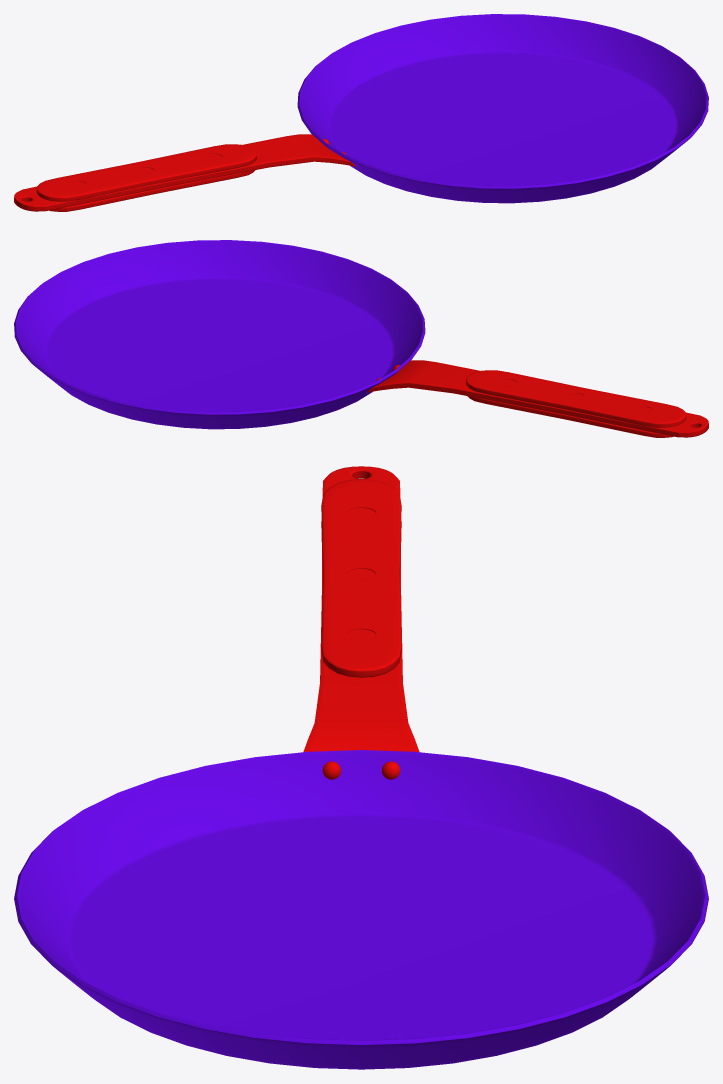
The model's file is Pan.fbx.
3 renders of one model, top to bottom at view 1: azimuth 30°, elevation 25°; view 2: azimuth 150°, elevation 25°; view 3: azimuth 270°, elevation 25°, orthographic. The views are drawn at different scales.
Visible parts, largest first — view 1: Pan5; view 2: Pan5; view 3: Pan5.
Part boxes in pixels (box(x1,y1,x2,y2)): Pan5: box(14, 14, 708, 211); Pan5: box(14, 240, 708, 437); Pan5: box(14, 466, 708, 1069).
Size of the model in its own units: 130 by 9.48 by 70.03.
